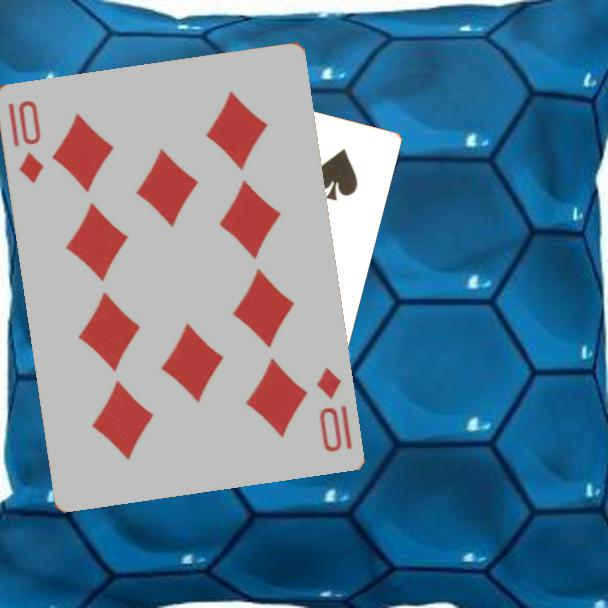d10: (4, 96, 47, 186), (312, 363, 354, 455)
